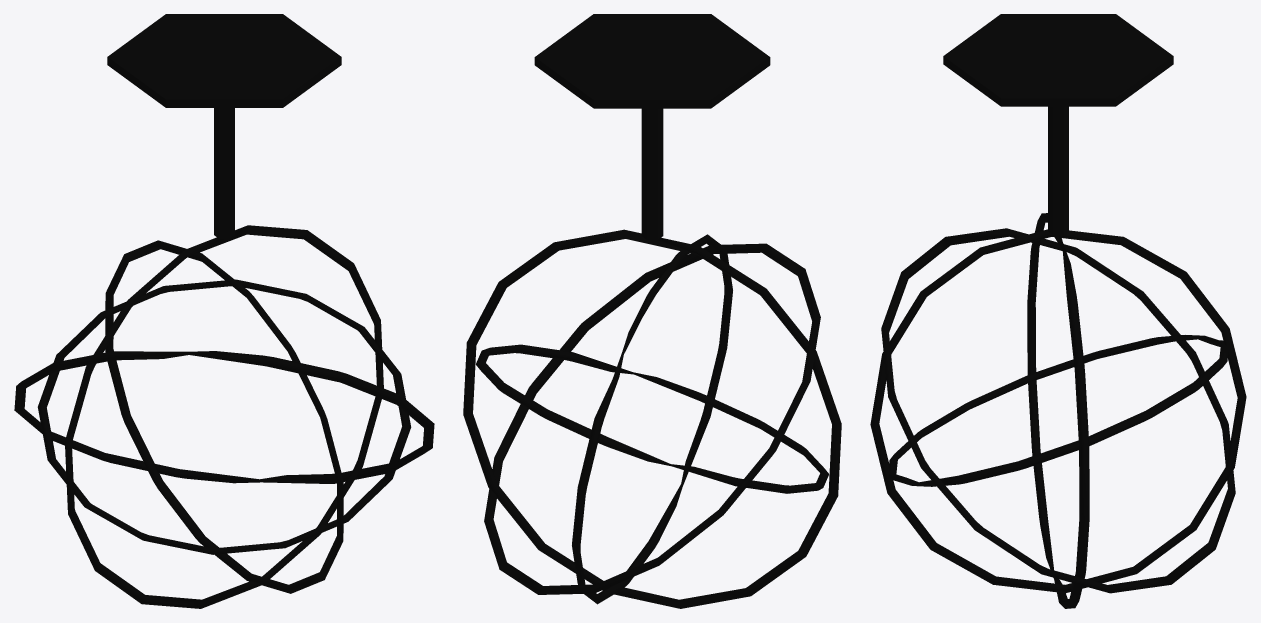
File: AtomicLight_Off.glb
3 views of the same model, side by side, from view 1: azimuth 30°, elevation 25°; view 2: azimuth 150°, elevation 25°; view 3: azimuth 270°, elevation 25° (orthographic). The views are drawn at different scales.
Visible parts, largest first — view 1: atomicLight_Off; view 2: atomicLight_Off; view 3: atomicLight_Off.
Boxes of the visible parts, <box> form: atomicLight_Off: <box>14,14,434,608</box>; atomicLight_Off: <box>463,14,841,608</box>; atomicLight_Off: <box>870,14,1246,608</box>.
Size of the model in its own units: 0.8807 by 1.32 by 0.8377.
Materials: 1 (1 with a texture image).
